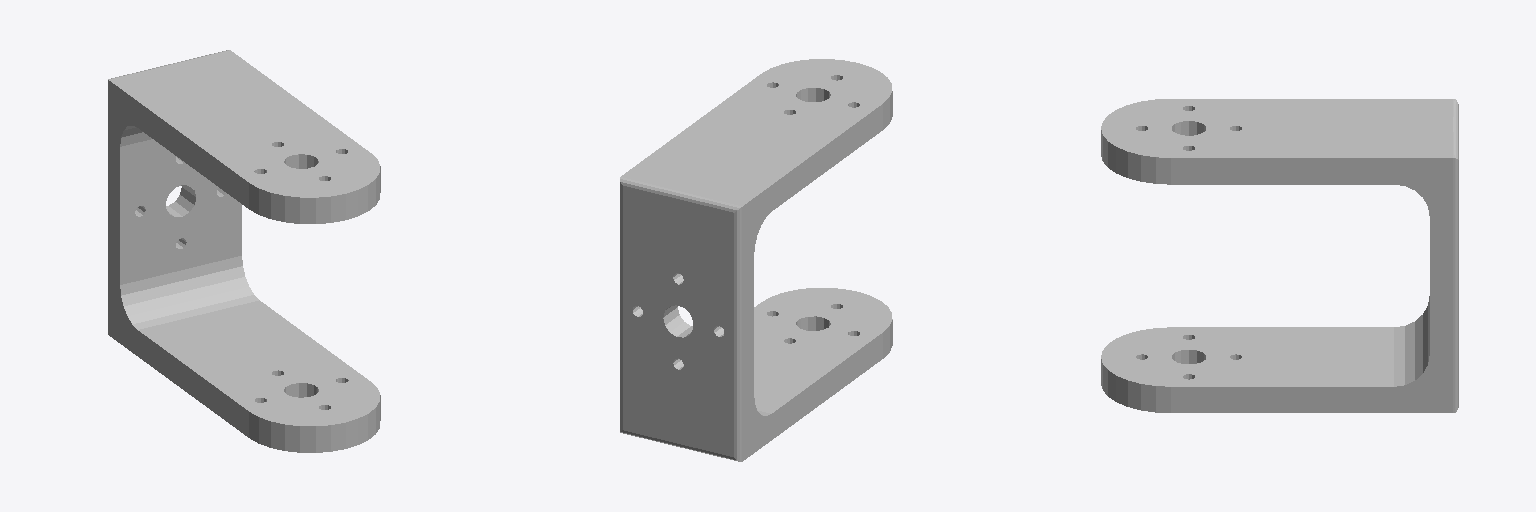
Rendered from tilt_link.obj.
3 renders of one model, left to right at view 1: azimuth 30°, elevation 25°; view 2: azimuth 150°, elevation 25°; view 3: azimuth 270°, elevation 25°, orthographic.
Size of the model in its own units: 0.024 by 0.048 by 0.061.